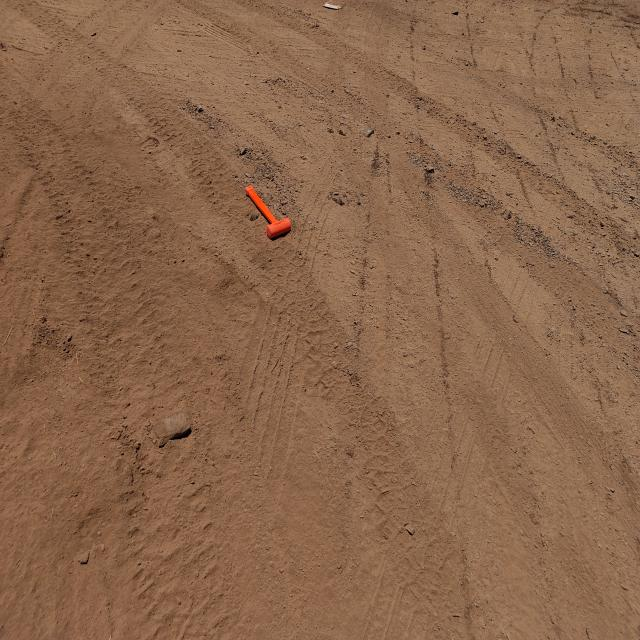Orange_hammer: (244, 184, 291, 240)
